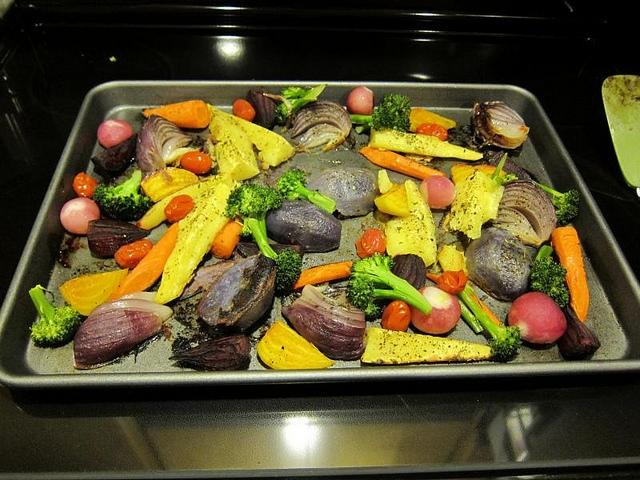broccoli: (346, 252, 433, 323), (222, 182, 284, 258), (458, 289, 522, 362), (28, 284, 82, 346), (92, 168, 151, 222), (527, 245, 569, 308), (277, 170, 336, 214), (349, 94, 412, 133), (532, 180, 580, 228), (277, 84, 327, 126), (270, 246, 302, 297), (490, 152, 520, 185)
carrot: (109, 222, 179, 301), (550, 226, 590, 323), (359, 146, 446, 180), (143, 99, 210, 128), (292, 260, 353, 289), (208, 220, 244, 259), (450, 164, 508, 185), (469, 294, 502, 325)
onion: (282, 284, 366, 362), (74, 308, 164, 370), (490, 180, 558, 248), (290, 100, 352, 154), (168, 334, 252, 372), (471, 101, 530, 150), (555, 304, 601, 360), (87, 218, 151, 258), (140, 167, 200, 203), (88, 298, 173, 322), (180, 262, 233, 300), (90, 134, 138, 175), (242, 90, 278, 130), (391, 254, 426, 290), (157, 126, 188, 154), (160, 135, 186, 163)
potato: (199, 253, 276, 336), (464, 227, 538, 302), (306, 166, 382, 221), (264, 199, 342, 252), (508, 293, 566, 344), (408, 286, 462, 334), (61, 197, 100, 234), (97, 120, 134, 148), (346, 86, 375, 116)
radish: (508, 292, 568, 344), (408, 285, 461, 334), (60, 197, 100, 234), (419, 175, 456, 209), (96, 118, 134, 150), (346, 86, 374, 115)
tomato: (114, 238, 154, 270), (380, 300, 410, 332), (163, 194, 194, 224), (72, 172, 100, 200), (361, 228, 386, 258), (437, 269, 467, 294), (180, 152, 212, 175), (232, 98, 256, 122), (415, 124, 448, 140)
